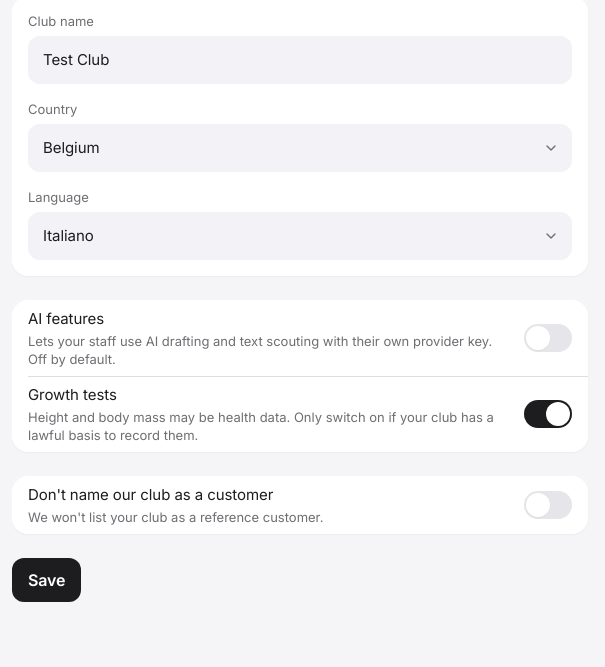
ProfileTab › shows an inline error when saving fails
What coordinates should you click on to do the following:
click the button "Save"
I would click on:
 (47, 580)
Its box is [12, 558, 81, 602].
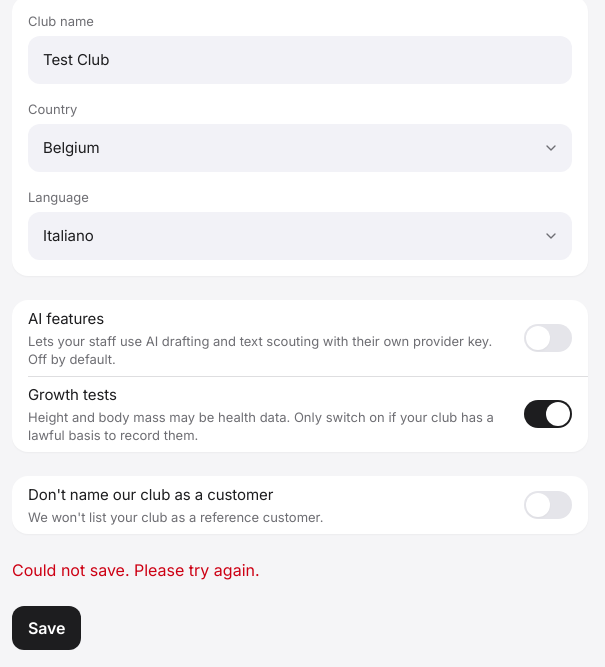
Expected: the message shows "Could not save", [12, 560, 260, 580]
